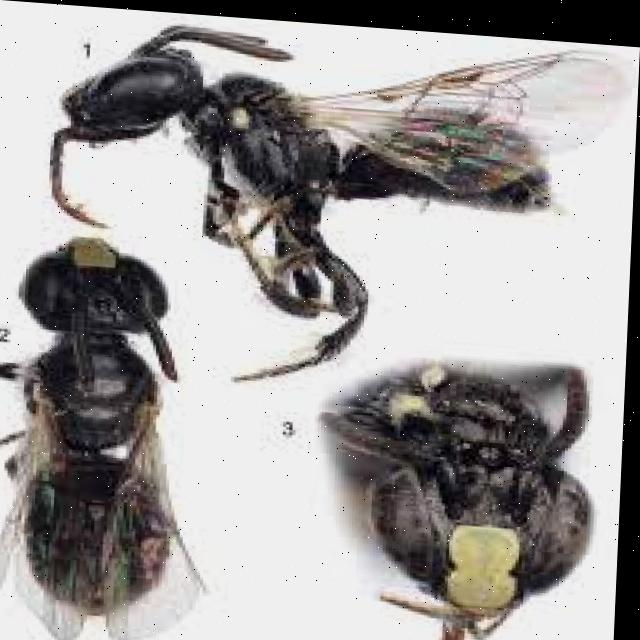Braunsapis: (21, 6, 592, 373), (316, 331, 610, 640), (0, 201, 189, 640)
